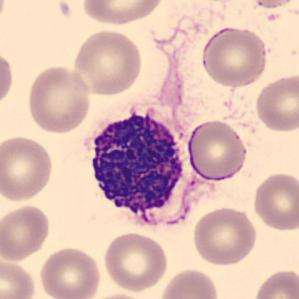Basophil: (80, 103, 197, 236)
RBC: (70, 27, 144, 97), (25, 64, 93, 136), (190, 204, 259, 268), (200, 26, 270, 88), (101, 230, 170, 292), (185, 118, 249, 183), (0, 133, 55, 203), (36, 244, 103, 299), (0, 202, 52, 262), (251, 170, 298, 232), (253, 72, 298, 133), (79, 0, 166, 26), (158, 266, 221, 299), (0, 257, 38, 299), (251, 267, 298, 299), (0, 48, 15, 109), (81, 291, 150, 299), (245, 0, 299, 10), (0, 0, 8, 32)
